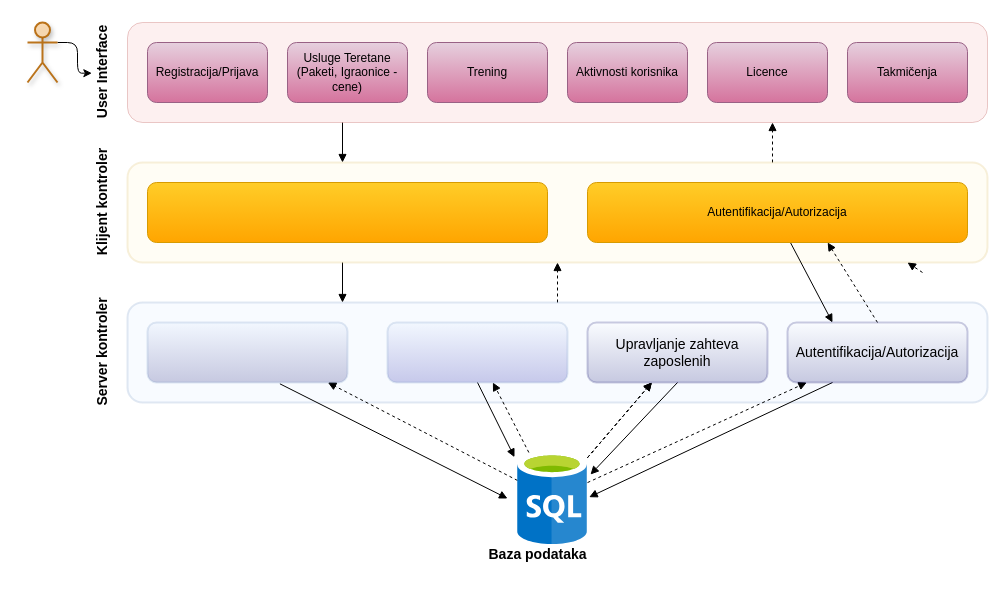
Image size: 1005x599. Some labels were removed from this diagram. The shapes that lost their labels are listed below. From the top down, each one's centre as x and y in pixels, then its label:
At (x=43, y=53): "Korisnik".
At (x=347, y=212): "Validacija podataka".
At (x=247, y=352): "Upravljanje uslugama".
At (x=477, y=352): "Upravljanje korisnickim informacijama".
